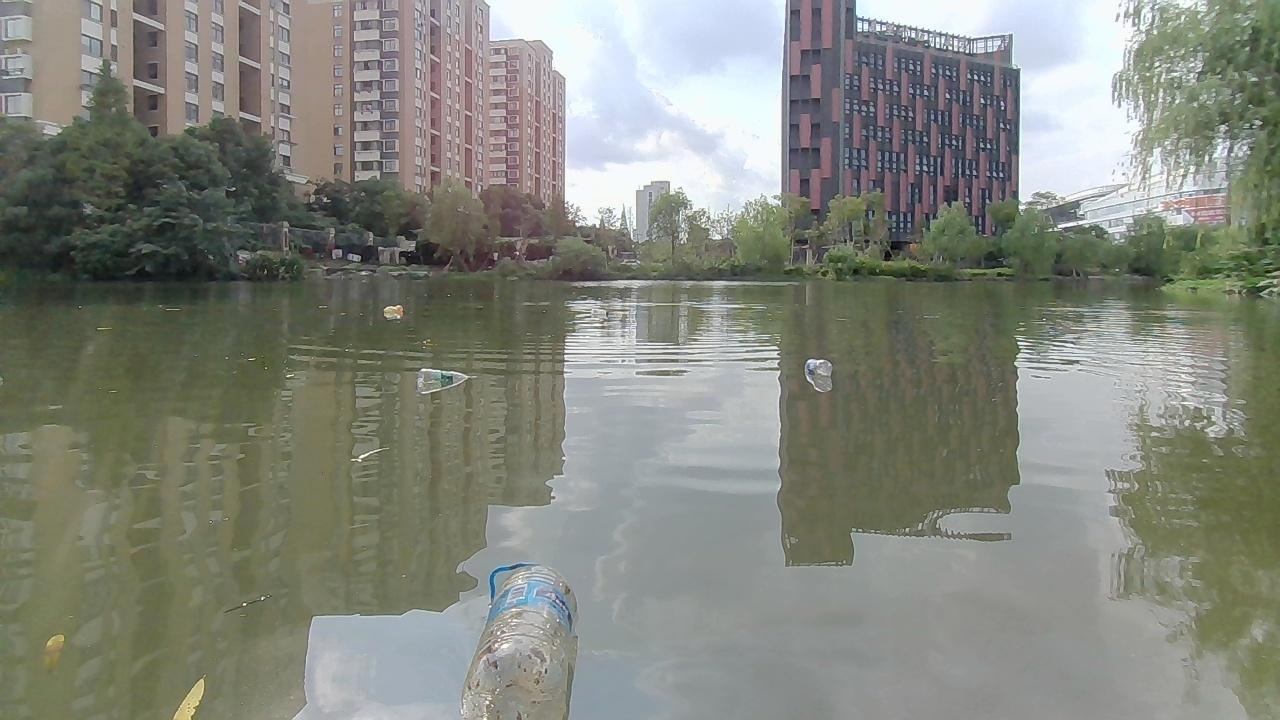bottle: (466, 558, 574, 719), (413, 364, 471, 389), (801, 354, 835, 379), (596, 307, 616, 325), (378, 304, 405, 315)
